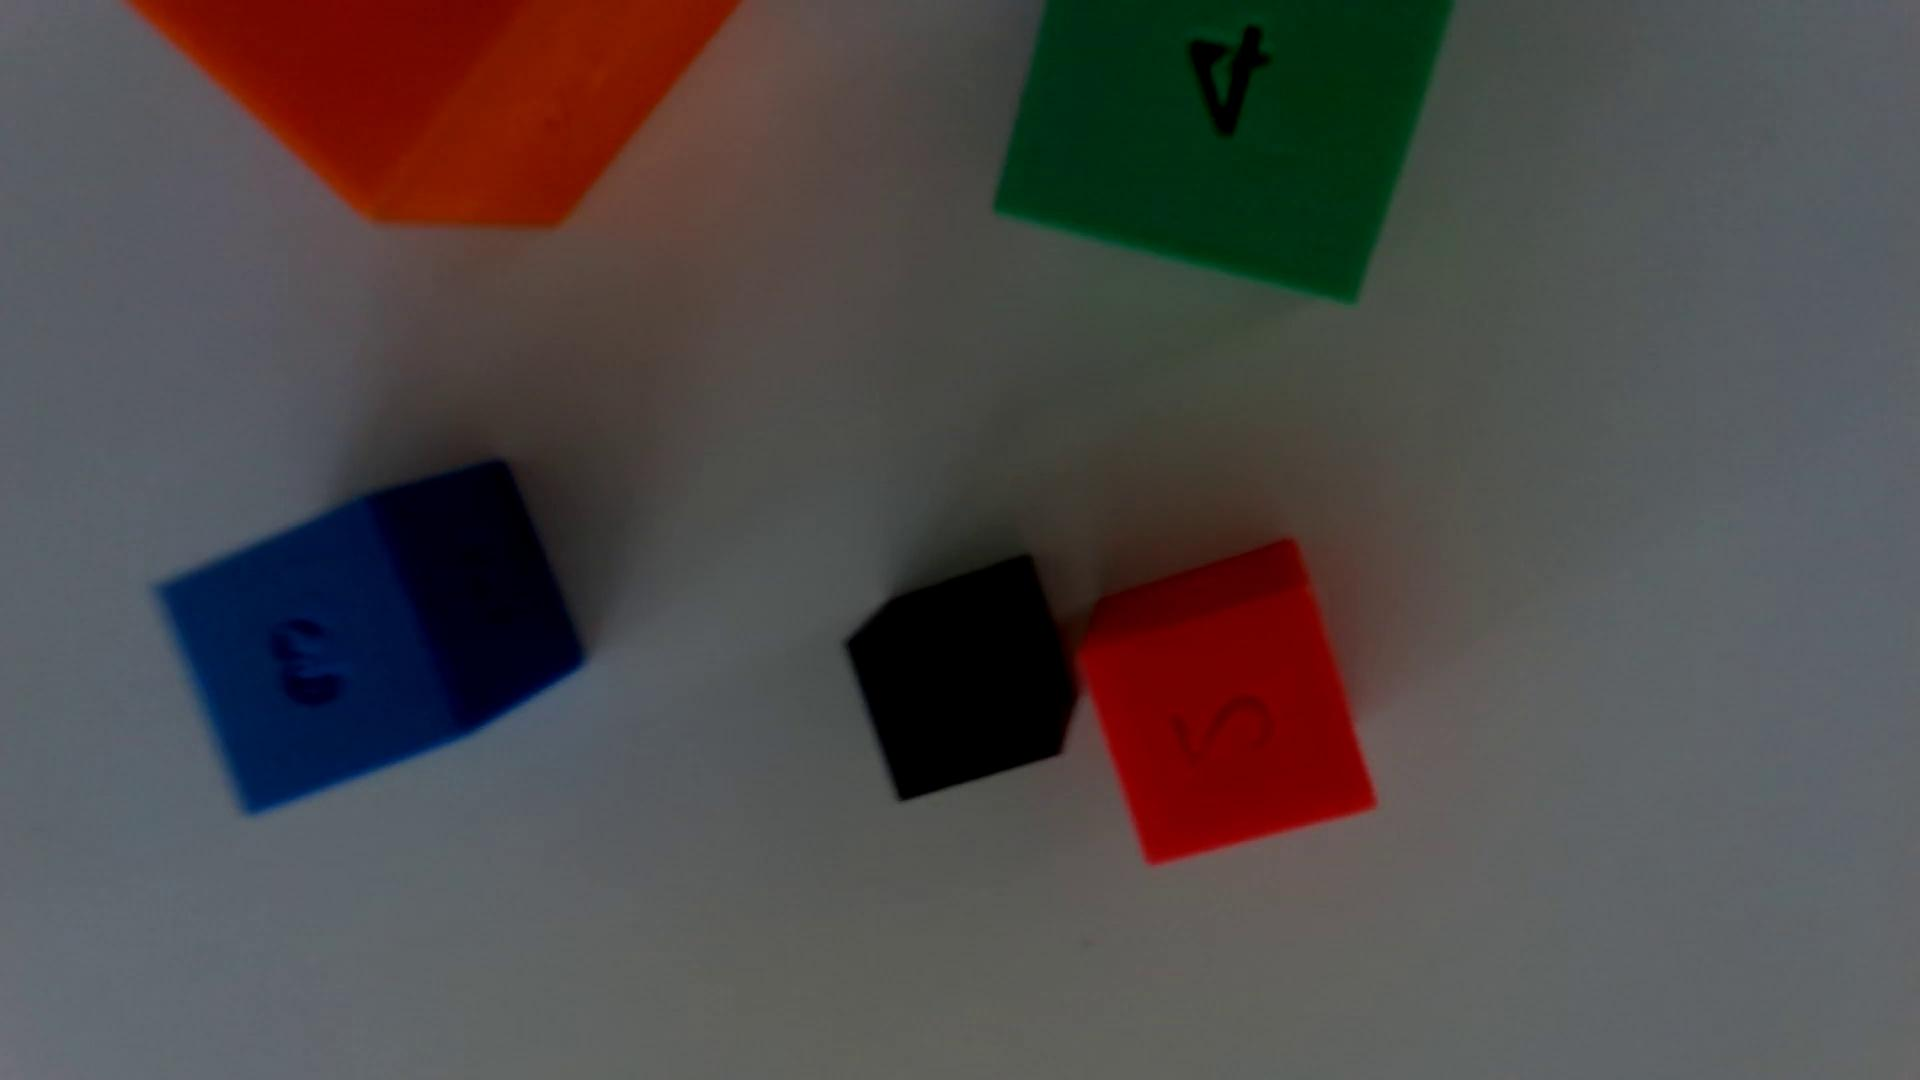black: (847, 555, 1076, 799)
blue: (158, 462, 582, 812)
green: (996, 0, 1452, 302)
orange: (131, 0, 738, 227)
red: (1081, 541, 1375, 862)
